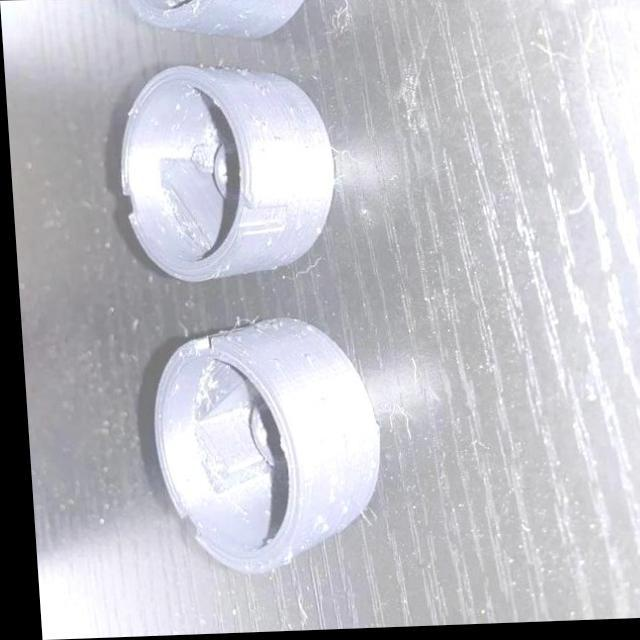zits: (292, 351, 310, 366), (310, 396, 325, 412), (284, 102, 295, 118), (313, 521, 324, 536), (255, 84, 268, 96), (308, 431, 320, 443), (306, 514, 316, 528), (256, 124, 268, 135), (288, 128, 300, 139), (266, 358, 279, 368), (333, 434, 346, 444), (270, 136, 282, 146)
